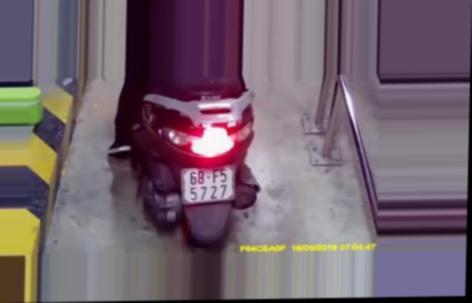License_Plate: (177, 162, 237, 208)
